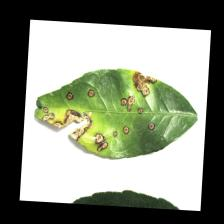canker: (34, 68, 160, 152)
